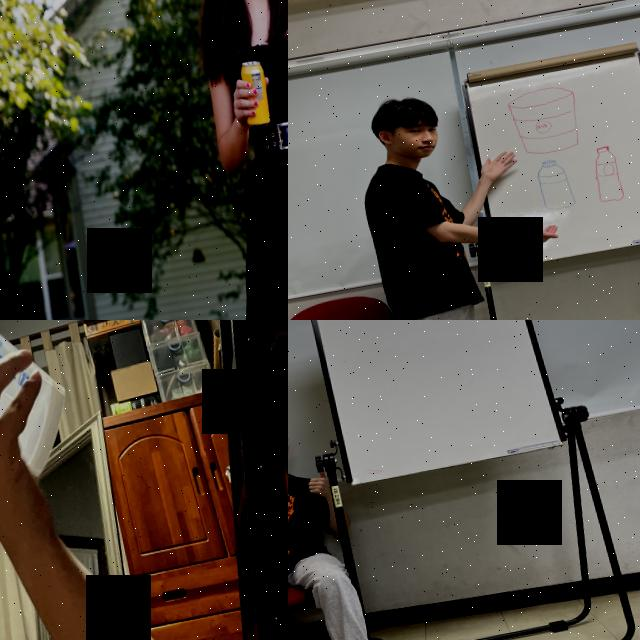can: (236, 56, 273, 130)
